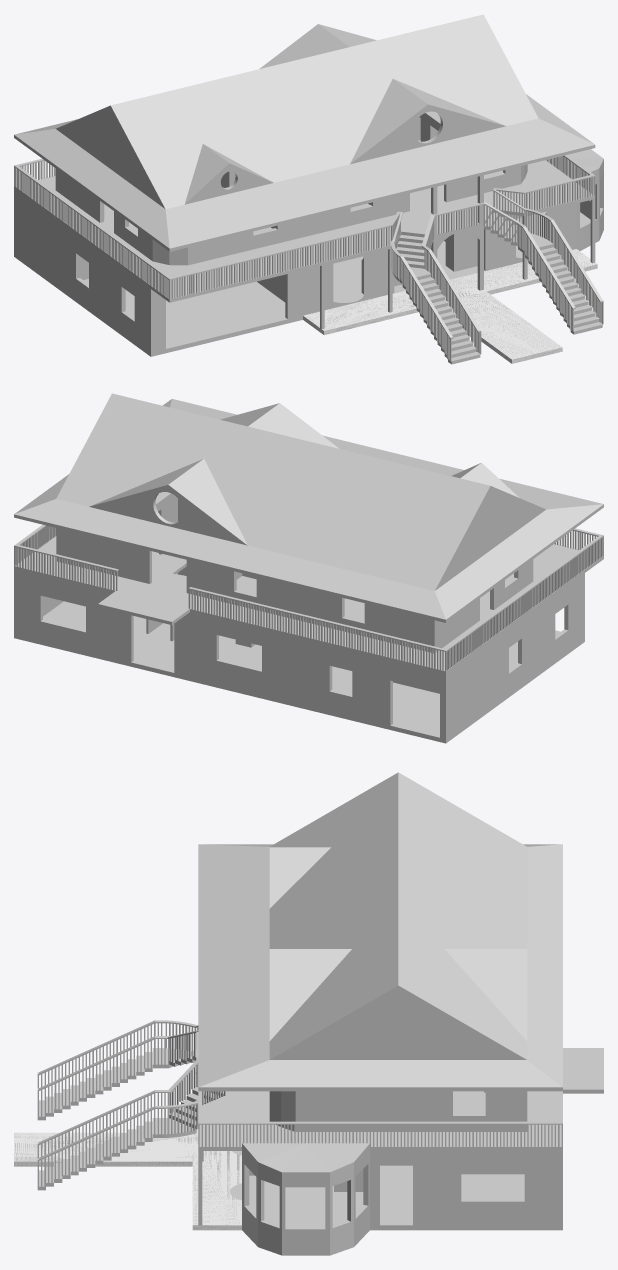
The model's file is House.dae.
3 renders of one model, top to bottom at view 1: azimuth 30°, elevation 25°; view 2: azimuth 150°, elevation 25°; view 3: azimuth 270°, elevation 25°, orthographic. The views are drawn at different scales.
Parts seen in each view (by area): view 1: group_7, group_2, group_3, group_6, group_5 (×2), group_4, group_0, group_1; view 2: group_7, group_2, group_4, group_5 (×2), group_0, group_6 (×2); view 3: group_7, group_2, group_3, group_6 (×2), group_4, group_0, group_1, group_5.
Boxes of the visible parts, bbox=[...] form: group_7: bbox=[14, 14, 595, 251]; group_2: bbox=[14, 149, 603, 352]; group_3: bbox=[381, 175, 603, 364]; group_6: bbox=[40, 160, 595, 328]; group_5 (×2): bbox=[14, 155, 595, 299]; group_4: bbox=[55, 111, 530, 267]; group_0: bbox=[14, 212, 603, 356]; group_1: bbox=[303, 249, 597, 363]; group_7: bbox=[14, 393, 603, 622]; group_2: bbox=[14, 536, 584, 739]; group_4: bbox=[56, 492, 539, 653]; group_5 (×2): bbox=[14, 524, 603, 671]; group_0: bbox=[14, 601, 584, 743]; group_6 (×2): bbox=[21, 539, 603, 693]; group_7: bbox=[198, 772, 562, 1091]; group_2: bbox=[242, 1091, 562, 1250]; group_3: bbox=[37, 1020, 225, 1190]; group_6 (×2): bbox=[198, 1048, 603, 1225]; group_4: bbox=[269, 1091, 527, 1131]; group_0: bbox=[242, 1165, 562, 1255]; group_1: bbox=[14, 1069, 241, 1230]; group_5: bbox=[198, 1091, 562, 1146].
Bounding box in the file's own units: 927 × 861 × 370.
